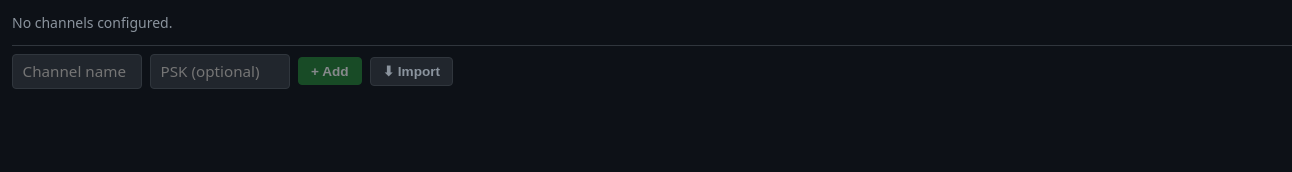
Test: name inputs hold to the byte budget the node enforces › stops a channel name at the byte budget, not the character count
The width and height of the screenshot is (1292, 172).
Type "日本語チャンネル名" into the field named "New channel name" at (77, 71), box x1=12 y1=54 x2=142 y2=89
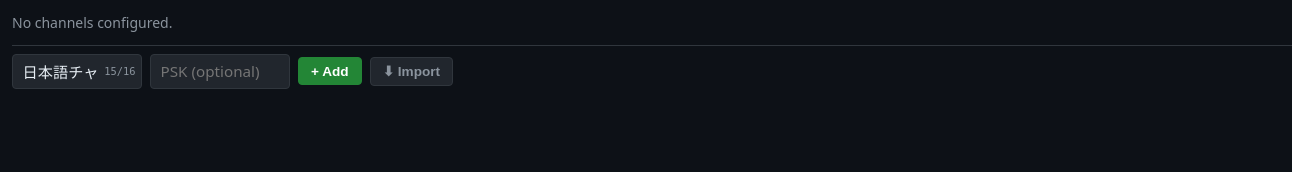
Result: the field named "New channel name" holds "日本語チャ" at x1=12 y1=54 x2=142 y2=89
